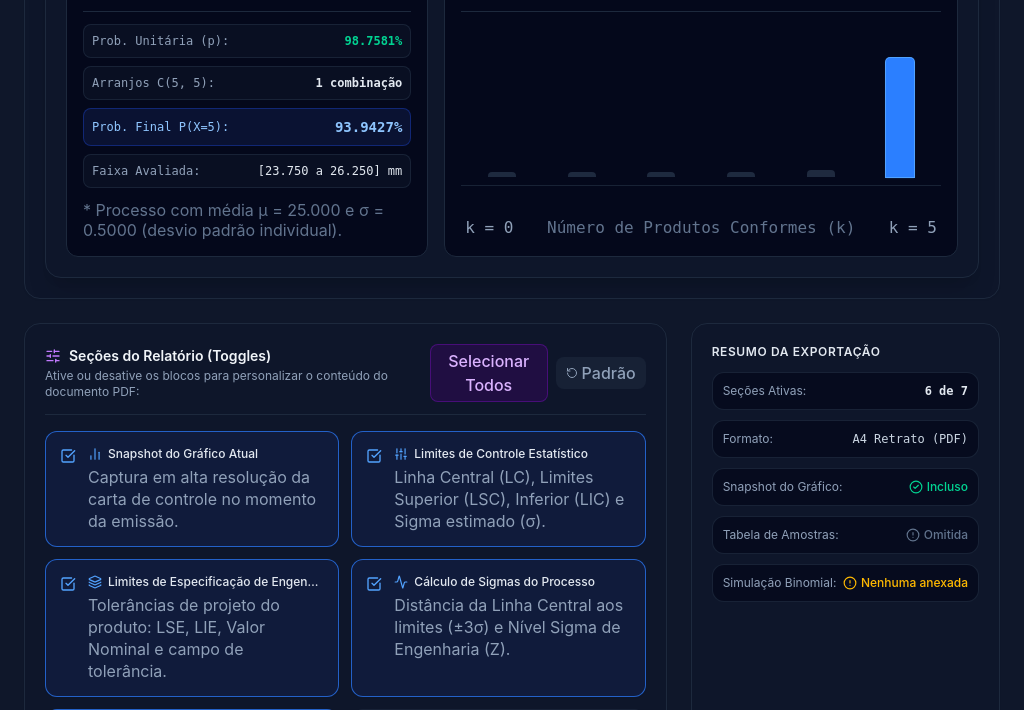
Test: Feature - Relatório Técnico em PDF e Análise de Sigmas › RelatorioPage Component › deve alternar os toggles e permitir selecionar todos ou restaurar padrão
(page scrolled)
Click the button "Selecionar Todos".
click(489, 373)  # box [430,344,548,402]
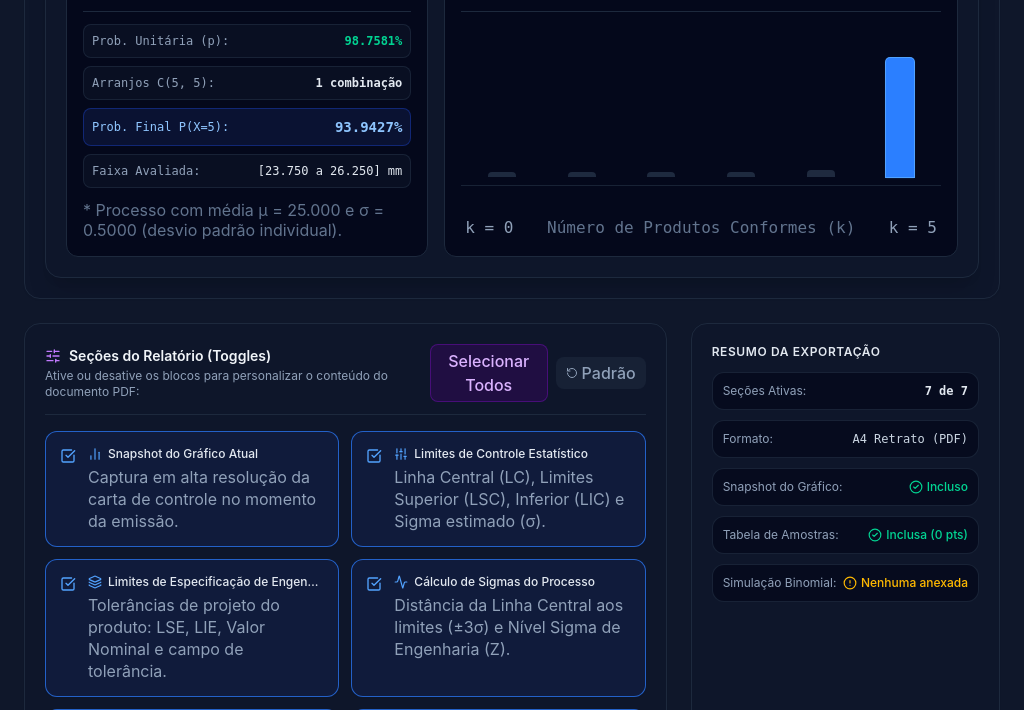
Expected: the text "7 de 7" is shown, [925,383,968,399]
// Clicar em "Padrão"
Click the button "Padrão".
click(601, 373)  # box [556,357,646,389]
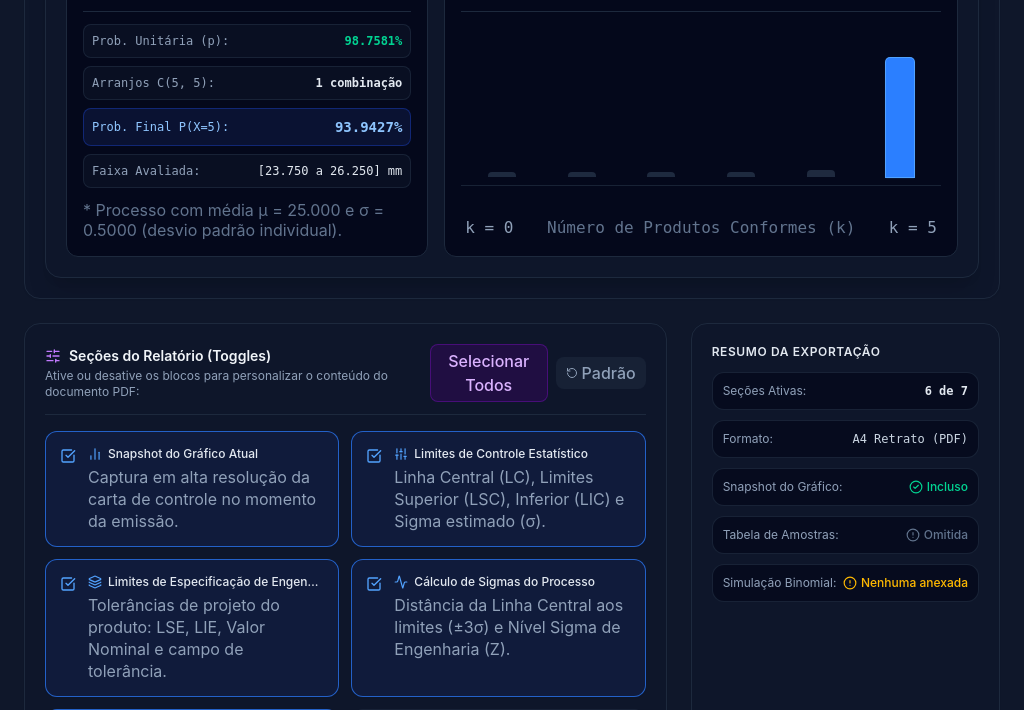
Expected: the text "6 de 7" is shown, [925,383,968,399]
// Clicar em um toggle específico
Click the text "Snapshot do Gráfico Atual".
click(183, 454)  # box [108,446,258,462]
(page scrolled)
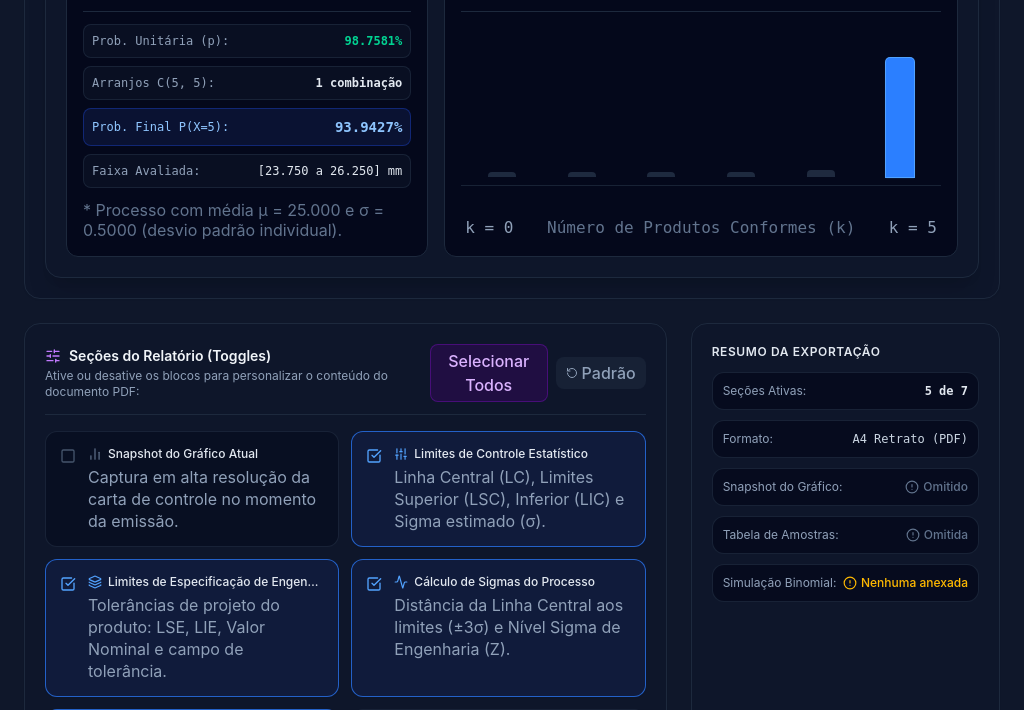
Expected: the text "5 de 7" is shown, [925,383,968,399]
